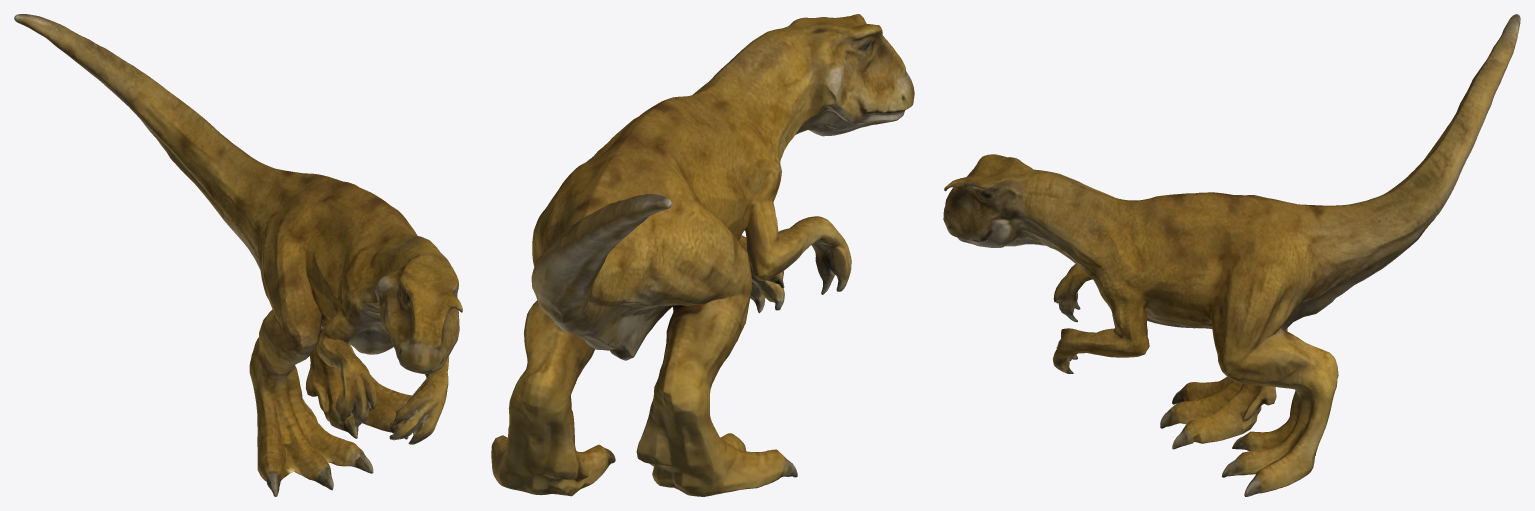
The model's file is Schleich_Allosaurus.glb.
The picture shows the model from 3 angles, left to right: view 1: azimuth 30°, elevation 25°; view 2: azimuth 150°, elevation 25°; view 3: azimuth 270°, elevation 25°; orthographic projection. The views are drawn at different scales.
Parts seen in each view (by area): view 1: geometry_0; view 2: geometry_0; view 3: geometry_0.
Boxes of the visible parts, <box> form: geometry_0: <box>14,14,462,496</box>; geometry_0: <box>491,14,914,496</box>; geometry_0: <box>943,14,1520,496</box>.
Size of the model in its own units: 0.5319 by 0.6796 by 0.9999.
Materials: 1 (1 with a texture image).
